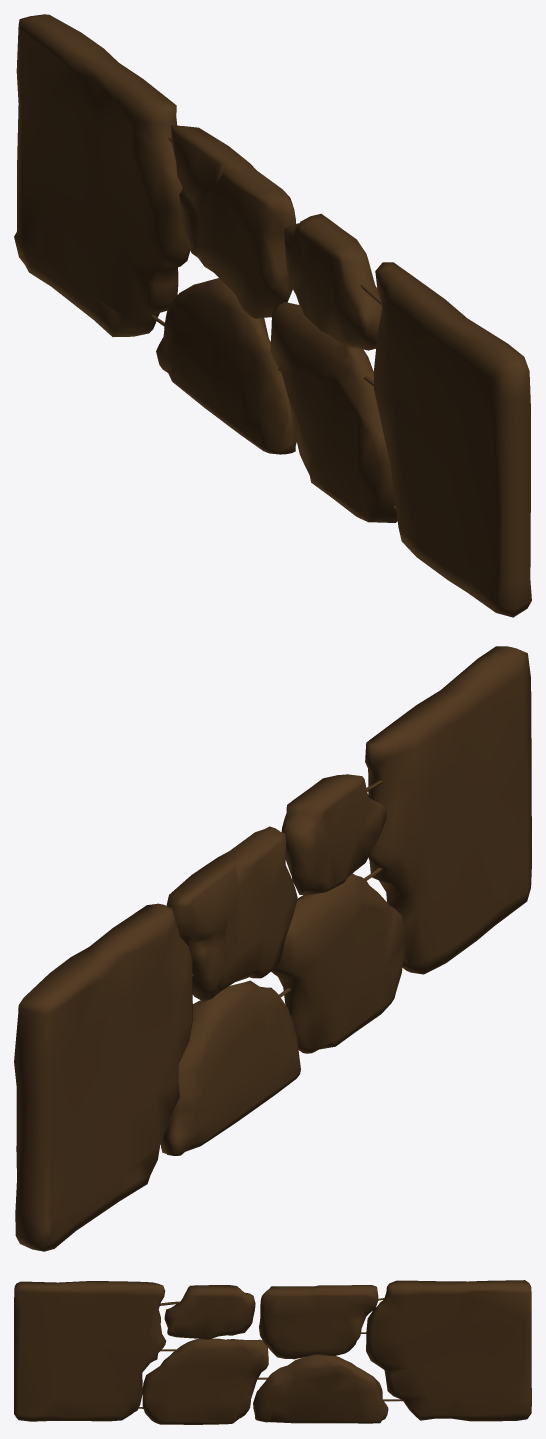
The model's file is Fence_Concrete_slab_c.FBX.
3 renders of one model, top to bottom at view 1: azimuth 30°, elevation 25°; view 2: azimuth 150°, elevation 25°; view 3: azimuth 270°, elevation 25°, orthographic. The views are drawn at different scales.
Visible parts, largest first — view 1: Fence_Concrete_slab_c_LOD0; view 2: Fence_Concrete_slab_c_LOD0; view 3: Fence_Concrete_slab_c_LOD0.
Part boxes in pixels (x1,y1,x2,y2): Fence_Concrete_slab_c_LOD0: (14, 14, 531, 617); Fence_Concrete_slab_c_LOD0: (14, 646, 531, 1251); Fence_Concrete_slab_c_LOD0: (14, 1280, 531, 1424).
Size of what is drawn, in the model's own units: 13.21 by 82.03 by 280.
